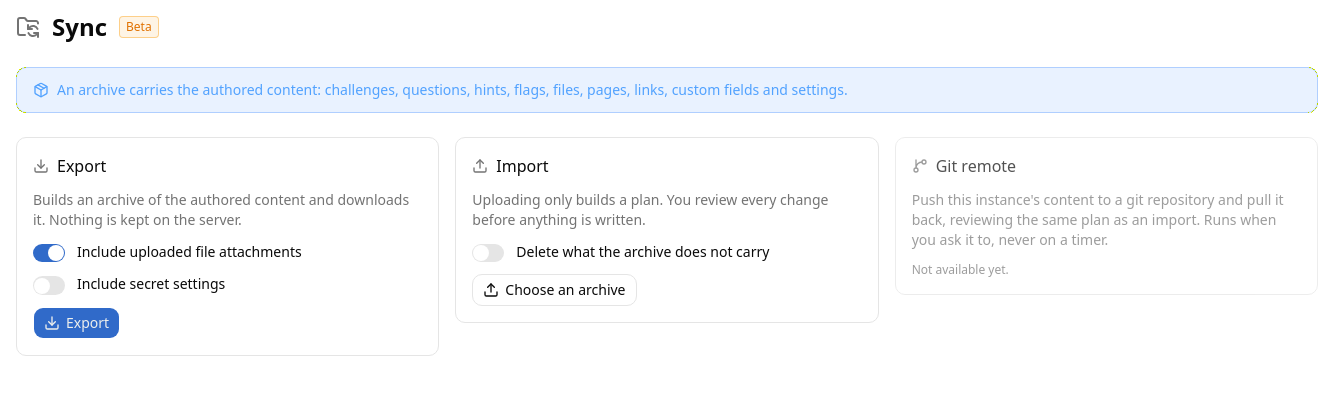
secrets are off until asked for, and warn once on
Expected: the text "clear text" is not shown
What coordinates should you click on to do the following:
click the switch named "Include secret settings"
I would click on:
 (49, 286)
Its box is x1=33 y1=276 x2=65 y2=295.
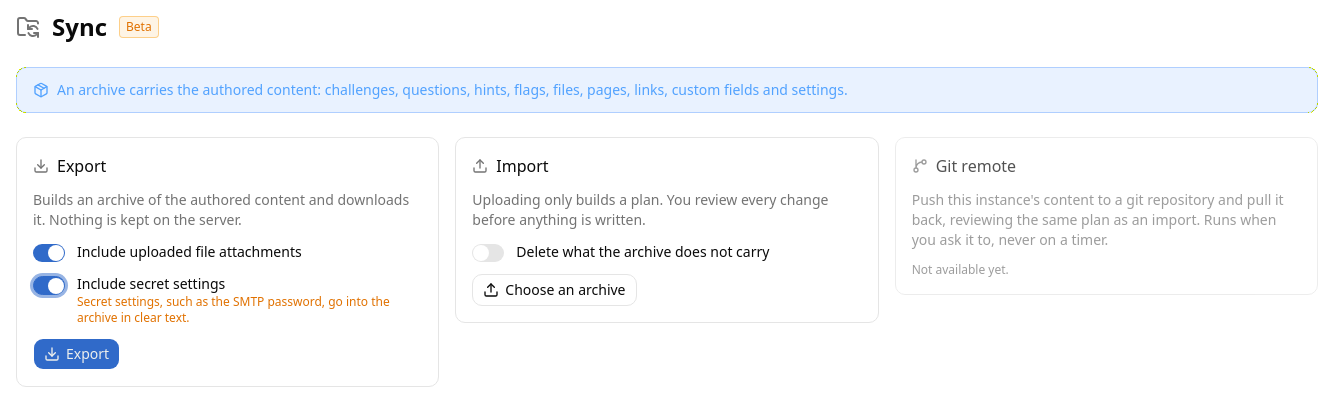
Now the text "clear text" is shown, box x1=77 y1=293 x2=390 y2=326
